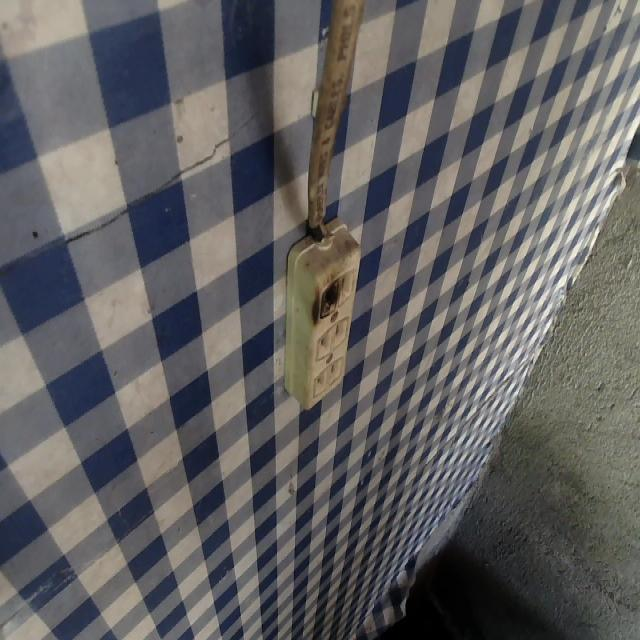-: (315, 272, 340, 323)
